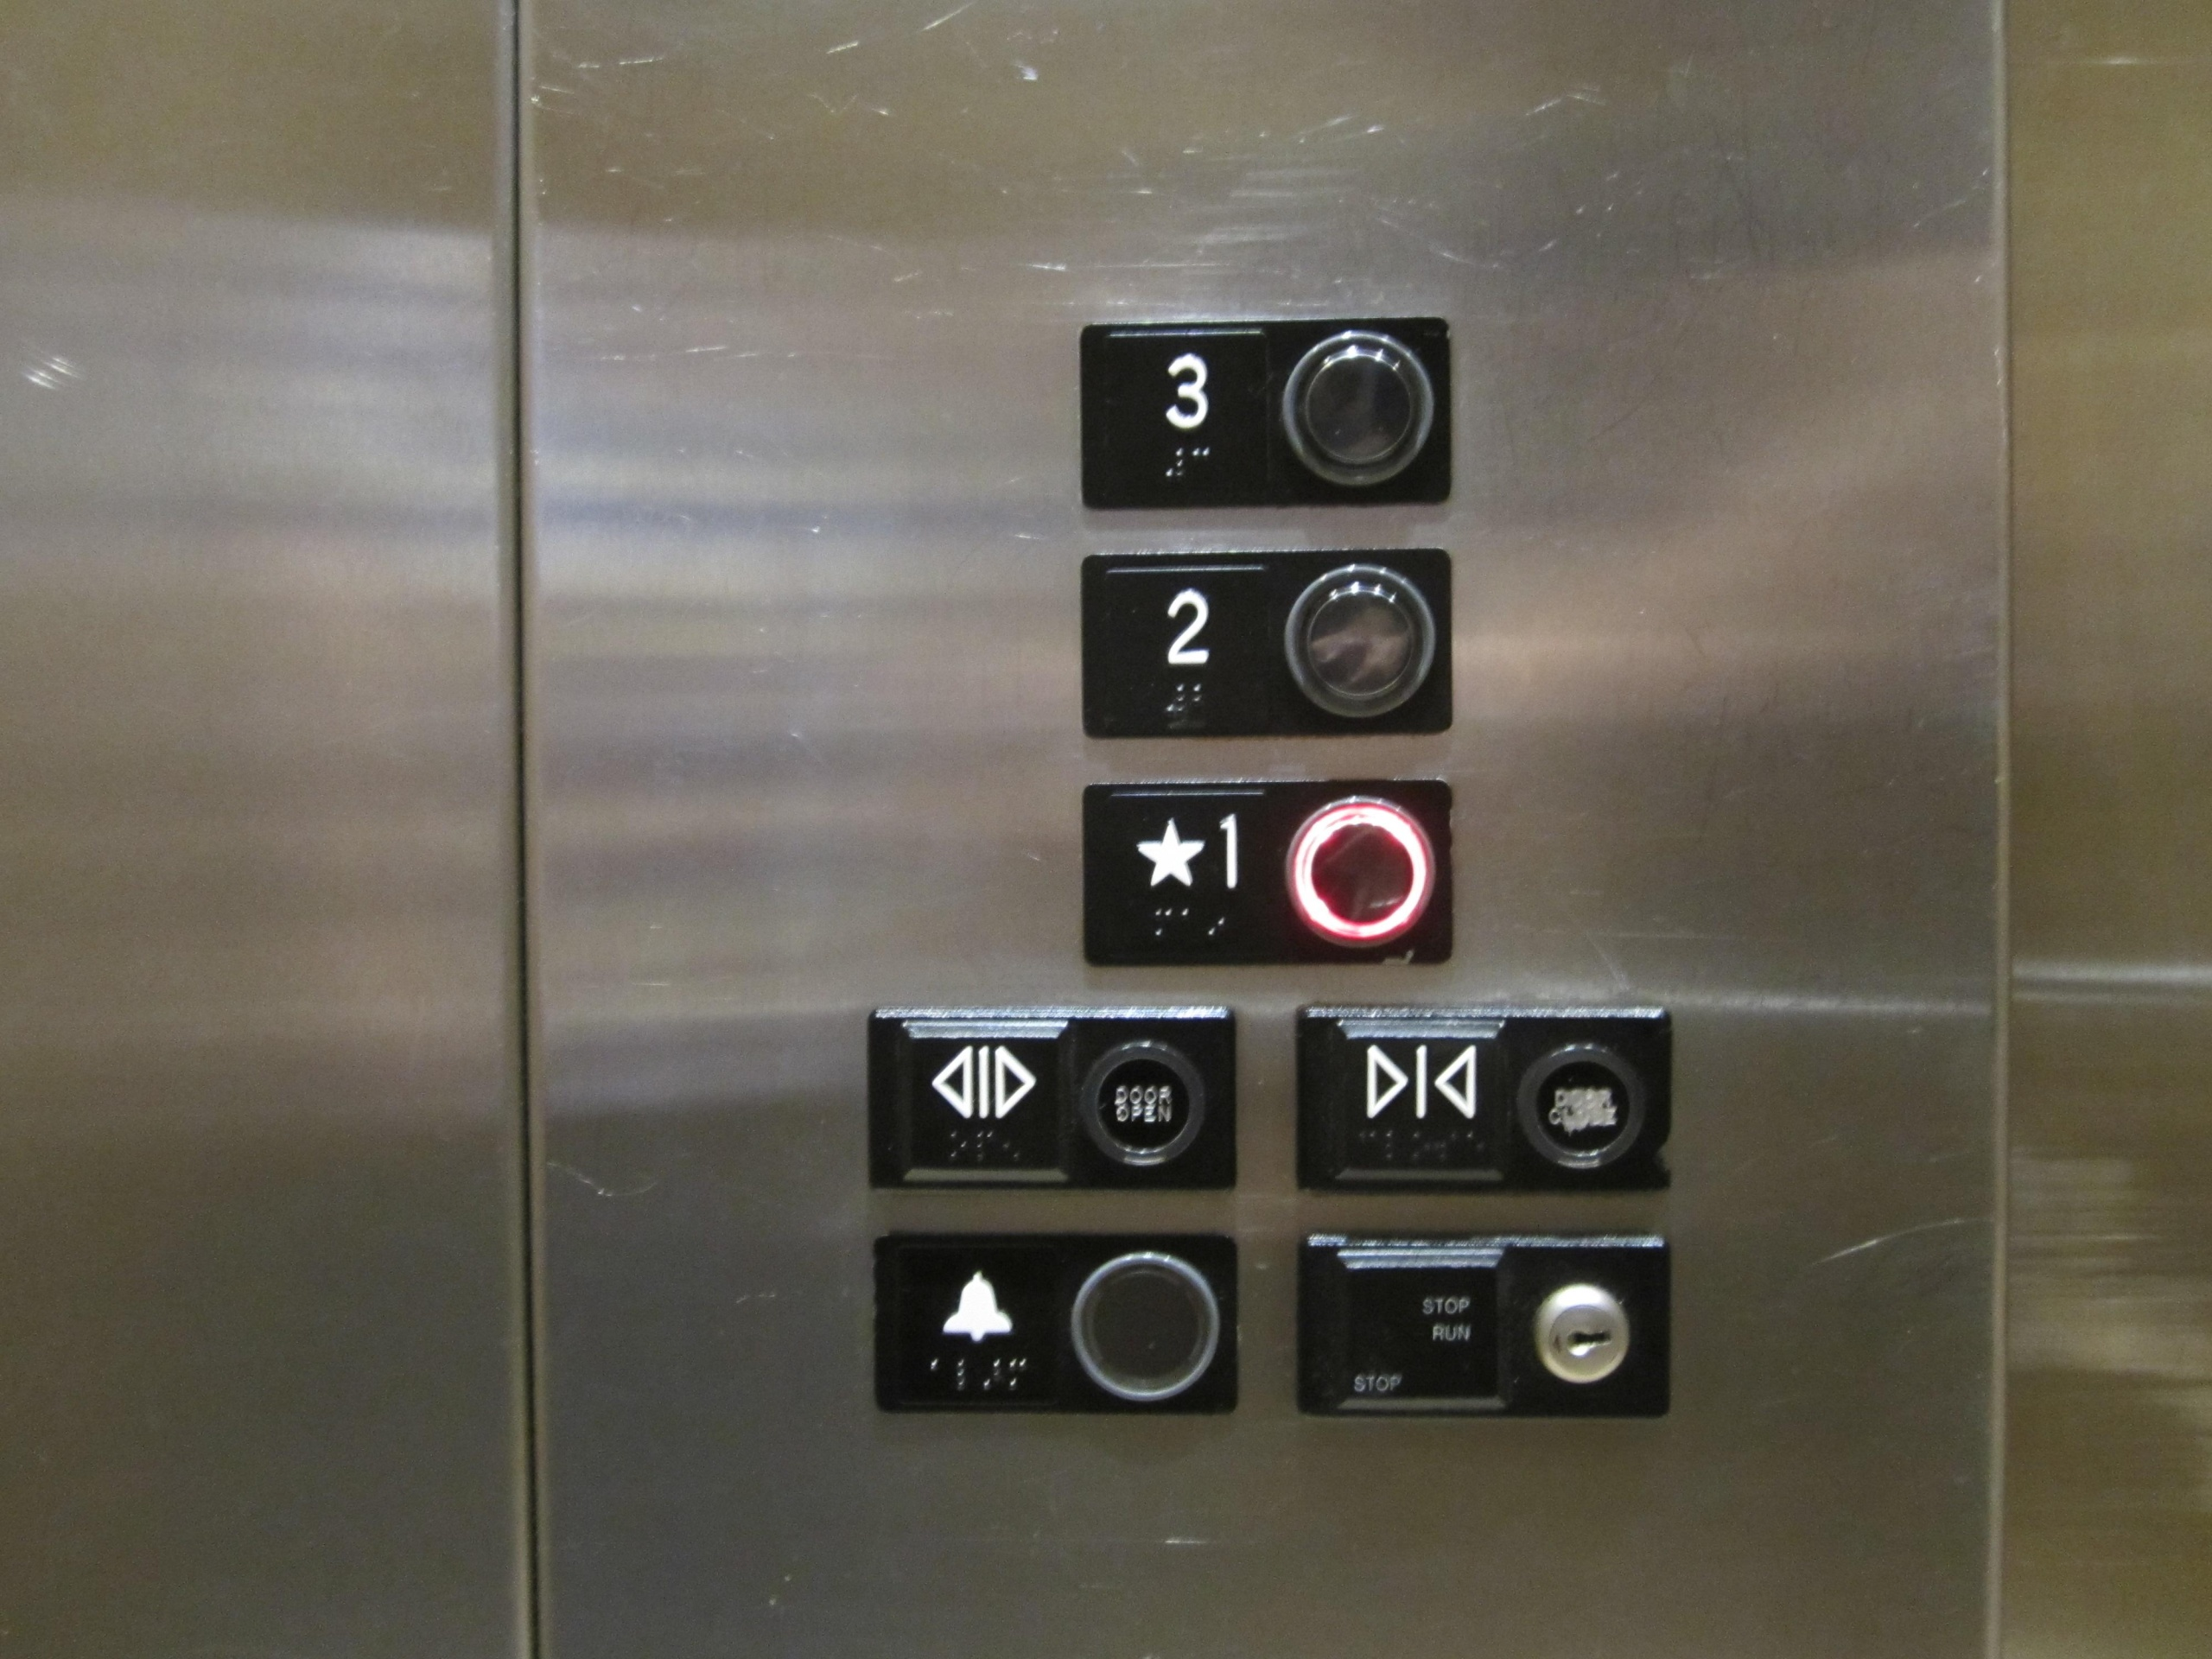2: (1071, 533, 1461, 753)
3: (1066, 308, 1470, 519)
alarm: (860, 1218, 1251, 1419)
bt_keyhole: (1284, 1225, 1686, 1422)
close: (1285, 999, 1686, 1201)
open: (859, 993, 1247, 1201)
s1: (1075, 770, 1461, 974)
